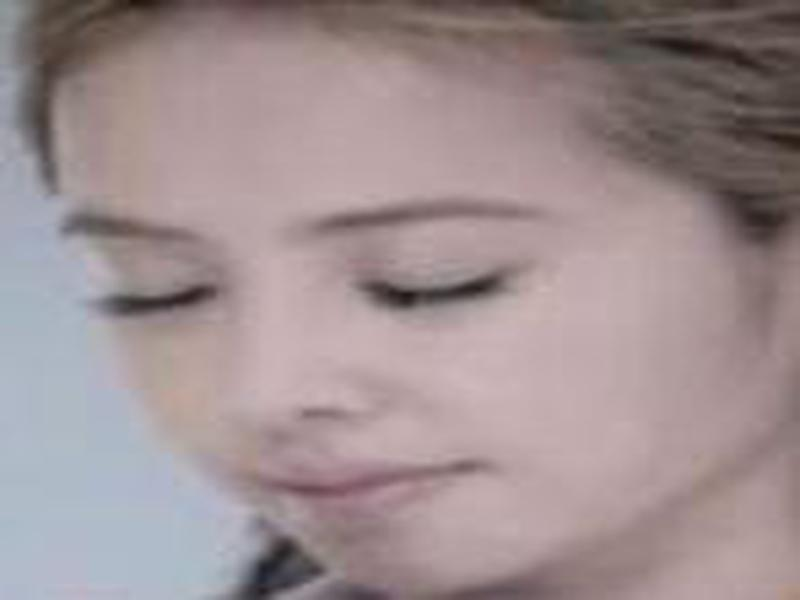without_mask: (42, 42, 746, 585)
